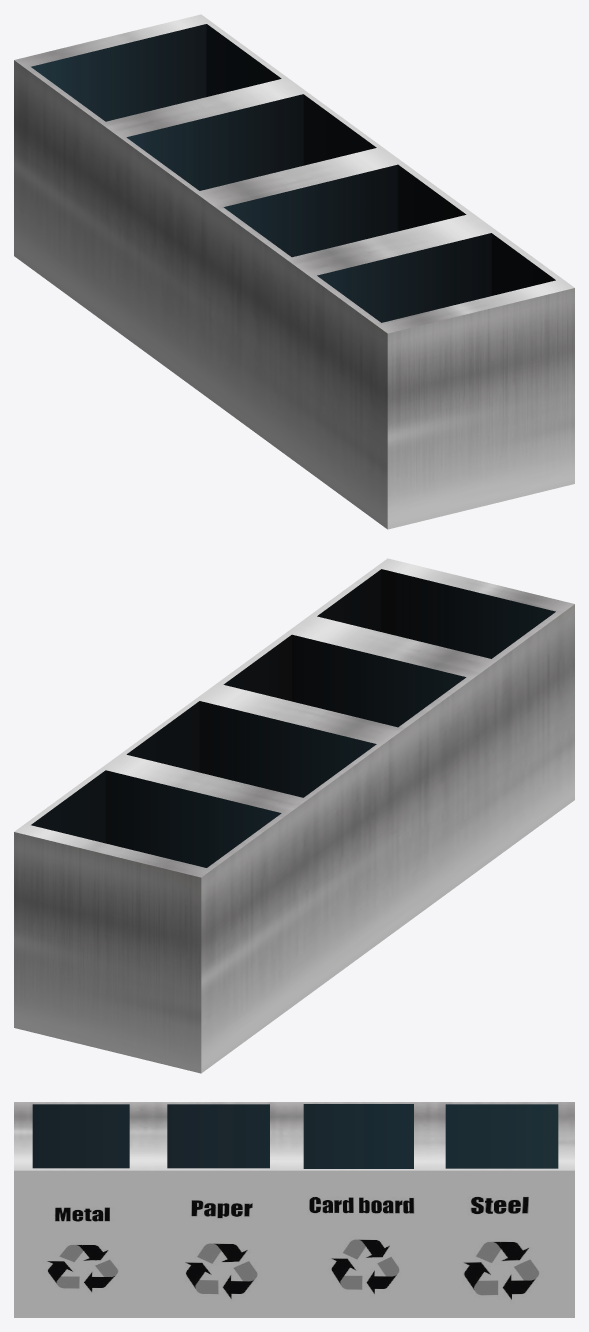
The model's file is prullenbak.fbx.
The picture shows the model from 3 angles, top to bottom: view 1: azimuth 30°, elevation 25°; view 2: azimuth 150°, elevation 25°; view 3: azimuth 270°, elevation 25°; orthographic projection. The views are drawn at different scales.
Parts seen in each view (by area): view 1: Cube; view 2: Cube; view 3: Cube.
Part boxes in pixels (box(x1,y1,x2,y2)): Cube: box(14, 14, 574, 529); Cube: box(14, 558, 574, 1073); Cube: box(14, 1102, 574, 1317).
Bounding box in the file's own units: 200 × 200 × 691.
